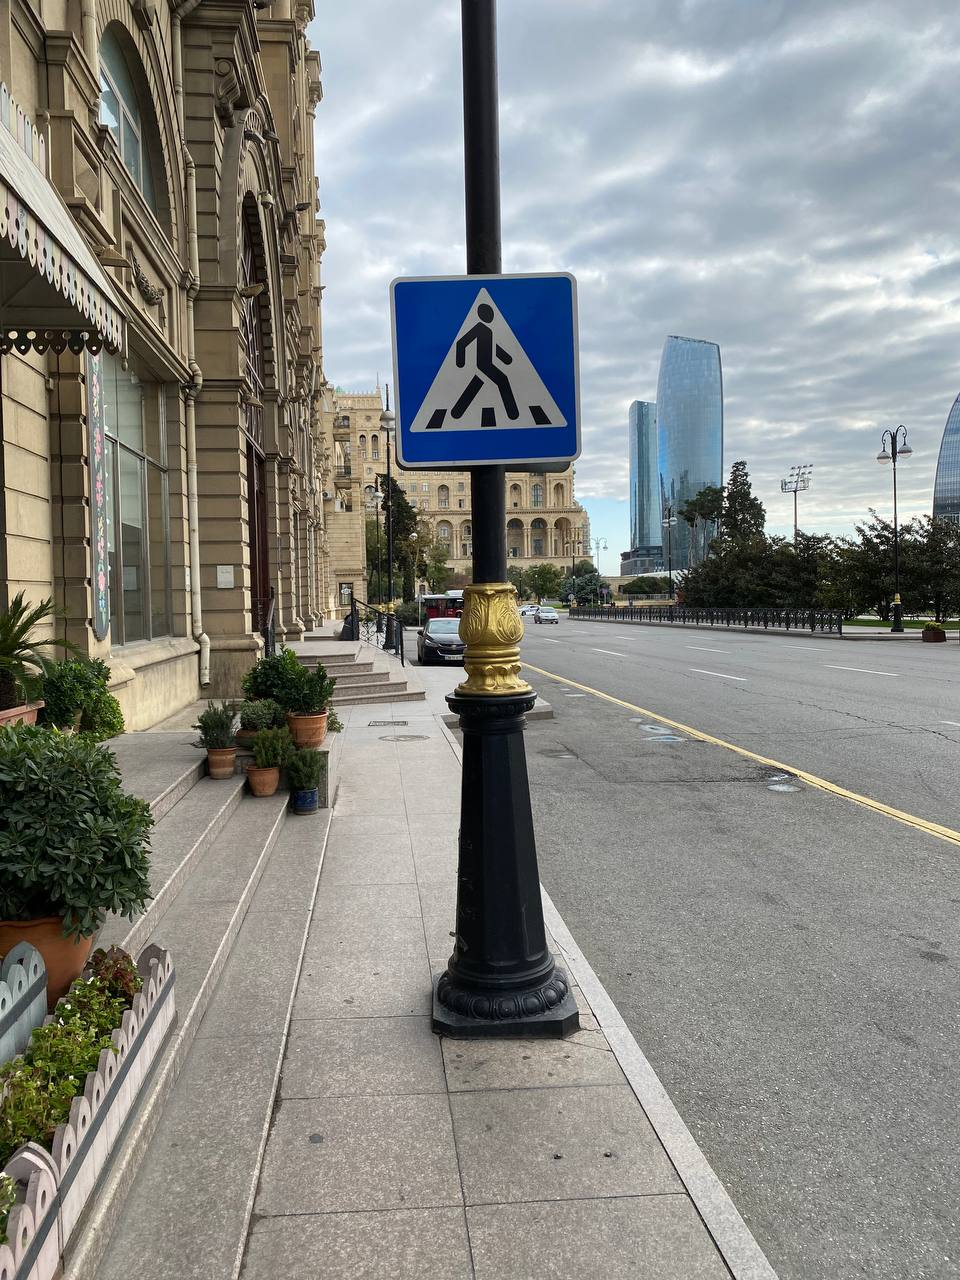Pedestrian Crossing: (390, 273, 582, 465)
